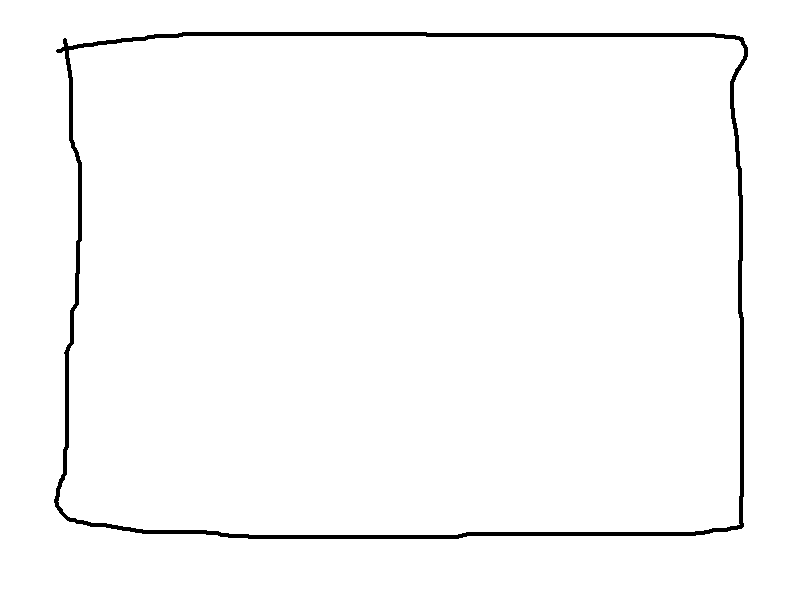rect: (50, 27, 753, 546)
